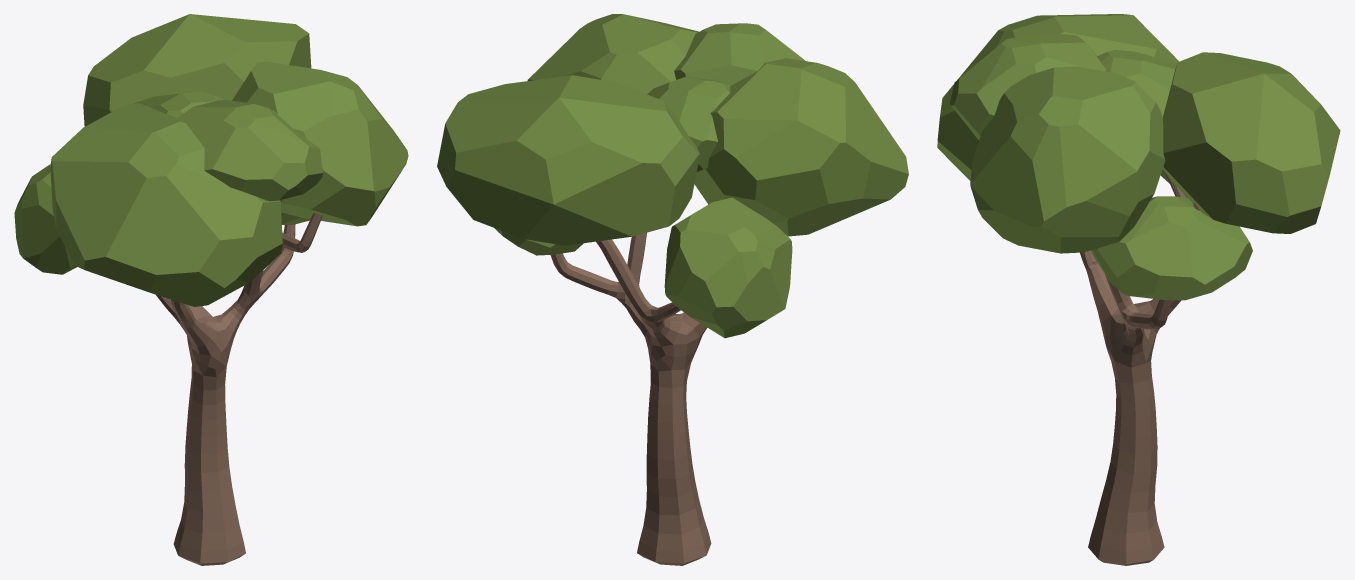
The model's file is Tree_03.fbx.
The picture shows the model from 3 angles, left to right: view 1: azimuth 30°, elevation 25°; view 2: azimuth 150°, elevation 25°; view 3: azimuth 270°, elevation 25°; orthographic projection. The views are drawn at different scales.
Visible parts, largest first — view 1: Leaf_03.004, Leaf_03.002, Wood_03, Leaf_03.001, Leaf_03, Leaf_03.003, Leaf_03.006; view 2: Leaf_03.001, Leaf_03.004, Wood_03, Leaf_03.003, Leaf_03.002, Leaf_03, Leaf_03.006, Leaf_03.005; view 3: Leaf_03.002, Leaf_03.001, Wood_03, Leaf_03.005, Leaf_03.004, Leaf_03, Leaf_03.006.
Boxes of the visible parts, <box> form: Leaf_03.004: <box>50,103,282,306</box>; Leaf_03.002: <box>232,61,408,226</box>; Wood_03: <box>156,213,322,565</box>; Leaf_03.001: <box>83,14,311,126</box>; Leaf_03: <box>176,100,322,201</box>; Leaf_03.003: <box>14,164,77,274</box>; Leaf_03.006: <box>133,91,223,117</box>; Leaf_03.001: <box>437,75,699,245</box>; Leaf_03.004: <box>694,58,908,236</box>; Wood_03: <box>550,232,711,565</box>; Leaf_03.003: <box>664,197,792,338</box>; Leaf_03.002: <box>527,14,698,94</box>; Leaf_03: <box>674,23,804,85</box>; Leaf_03.006: <box>647,76,730,172</box>; Leaf_03.005: <box>494,228,583,255</box>; Leaf_03.002: <box>970,66,1165,253</box>; Leaf_03.001: <box>1162,52,1340,233</box>; Wood_03: <box>1080,172,1199,565</box>; Leaf_03.005: <box>1091,196,1252,300</box>; Leaf_03.004: <box>937,14,1178,180</box>; Leaf_03: <box>950,34,1108,139</box>; Leaf_03.006: <box>1097,50,1177,117</box>.
Size of the model in its own units: 180 by 248 by 179.
